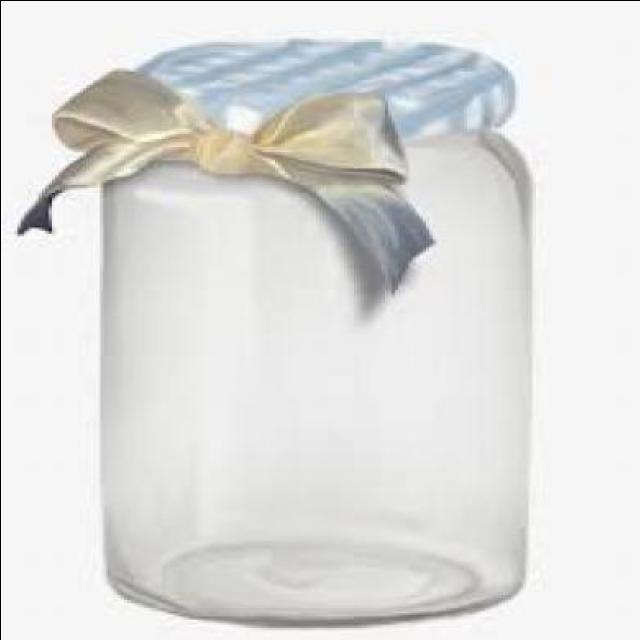kaca: (102, 134, 535, 624)
